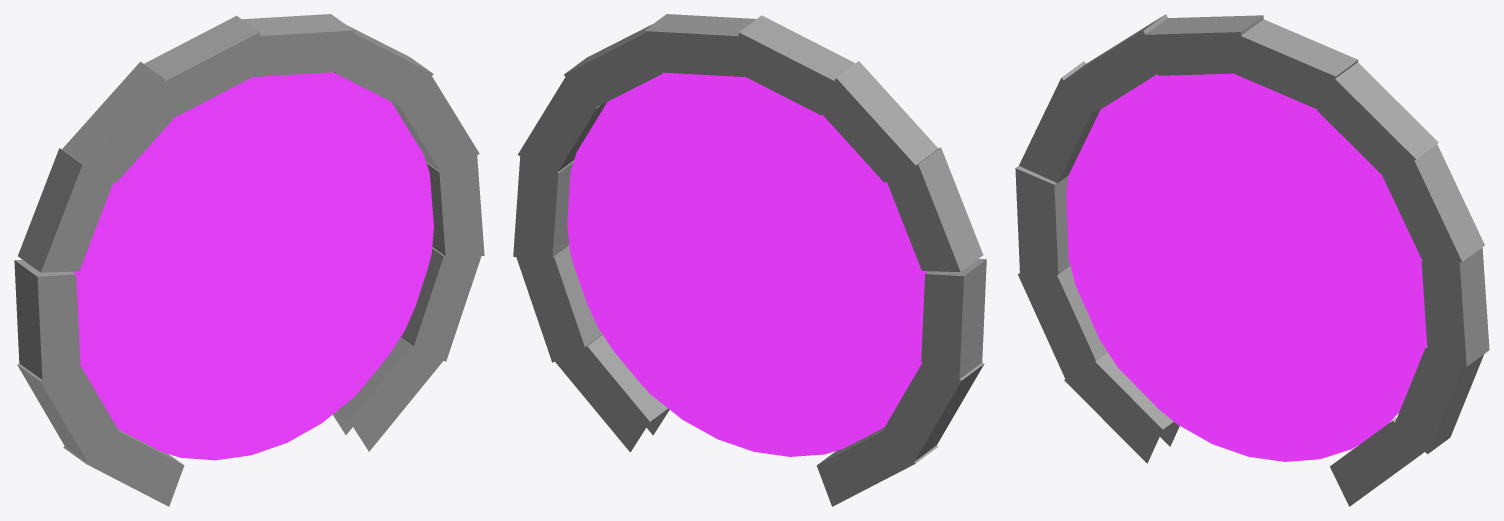
The model's file is portal.glb.
3 views of the same model, side by side, from view 1: azimuth 30°, elevation 25°; view 2: azimuth 150°, elevation 25°; view 3: azimuth 330°, elevation 25° (orthographic).
Parts seen in each view (by area): view 1: portalLight, Cube.012; view 2: portalLight, Cube.012; view 3: portalLight, Cube.012.
Part boxes in pixels (<box>): portalLight: <box>73,72,433,460</box>; Cube.012: <box>14,14,484,506</box>; portalLight: <box>567,72,927,456</box>; Cube.012: <box>513,14,986,506</box>; portalLight: <box>1066,73,1427,461</box>; Cube.012: <box>1015,14,1489,506</box>.
Bounding box in the file's own units: 2.79 × 2.69 × 0.2644.
